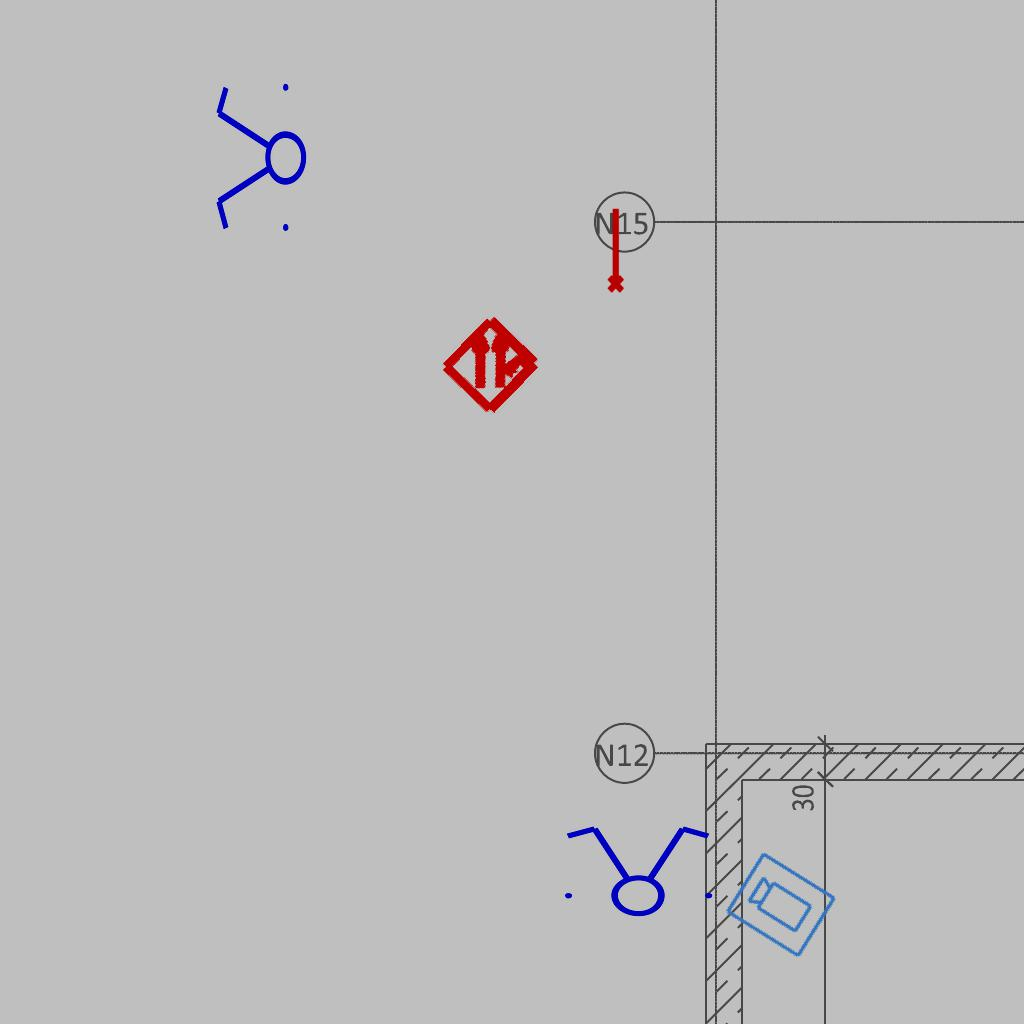ASR_Ansaugoeffnung: (603, 206, 626, 294)
KFO_Kamera_mit_Festobjektiv: (722, 847, 841, 962)
OT_Multisensormelder_(Kombination_RMO_WMD): (412, 283, 573, 444)
Serienschalter: (212, 75, 308, 243), (553, 822, 721, 918)
